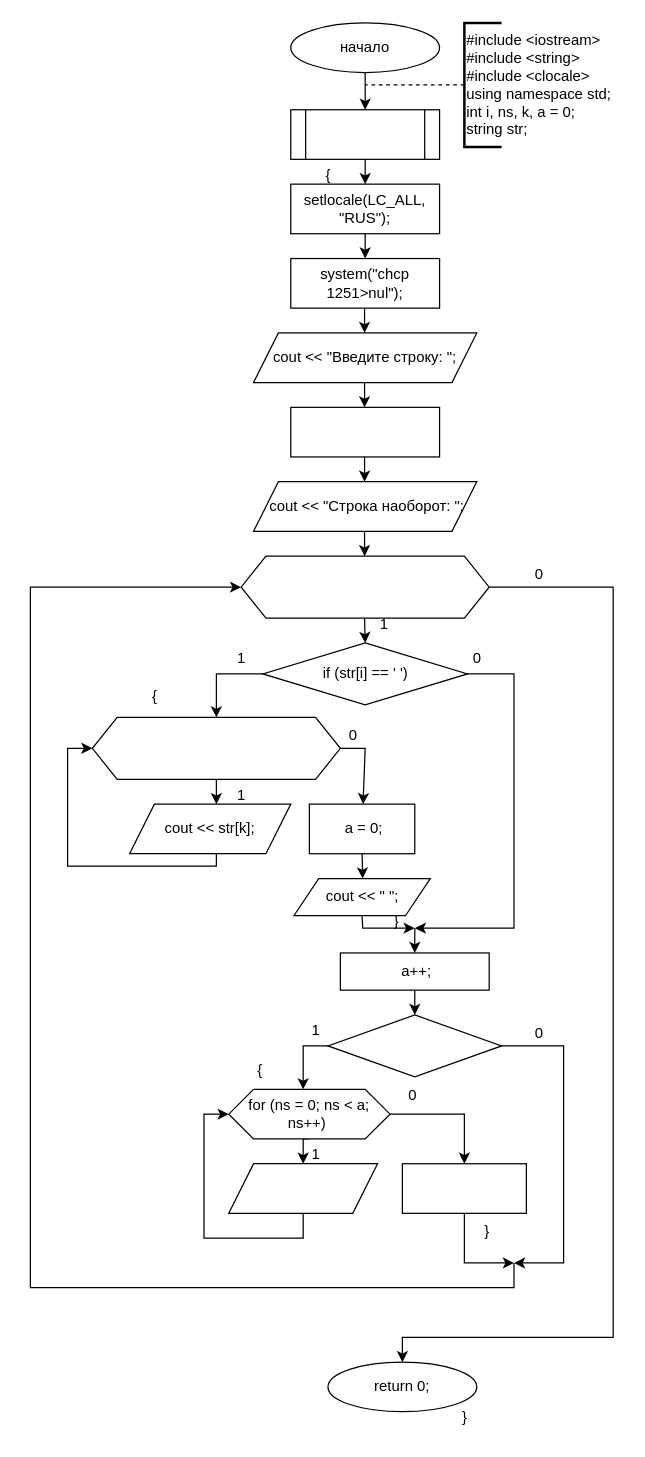
This 645x1457 diagram has some shape labels left out. Each missing label, with the centre of its shape:
a=0;: [463,1187]
cout << str[ns];: [303,1187]
for (i = str.length(); i >= 0; i--): [364,586]
for (k = i + 1; k < (i + a); k++): [215,747]
getline(cin, str);: [365,431]
if (i == 0): [414,1045]
int main(): [365,133]
